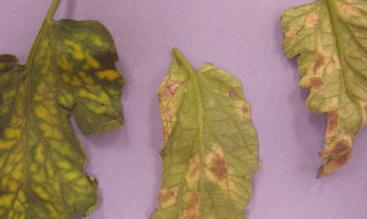Tomato mold leaf: (0, 12, 127, 219), (142, 58, 263, 219), (281, 1, 367, 171)
